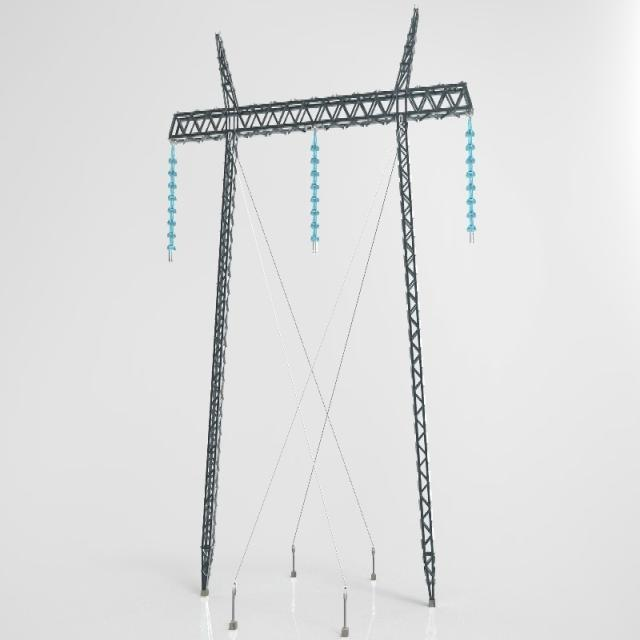non-critical vegetation: (162, 22, 510, 602)
